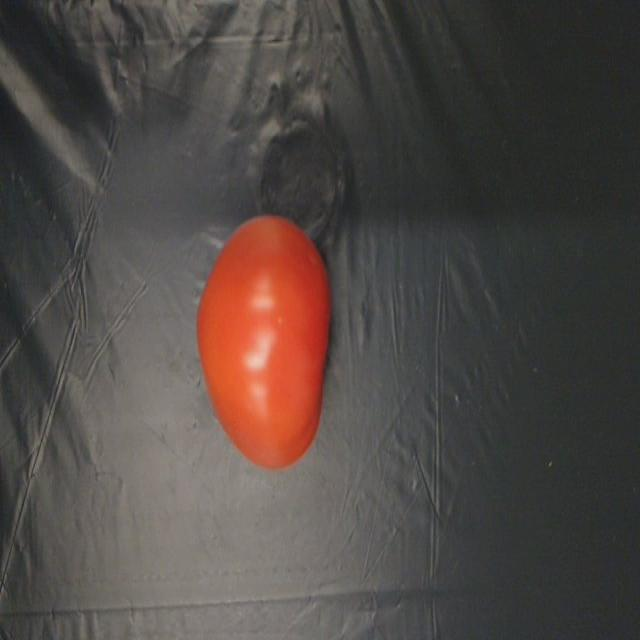kirmizi: (156, 154, 304, 427)
